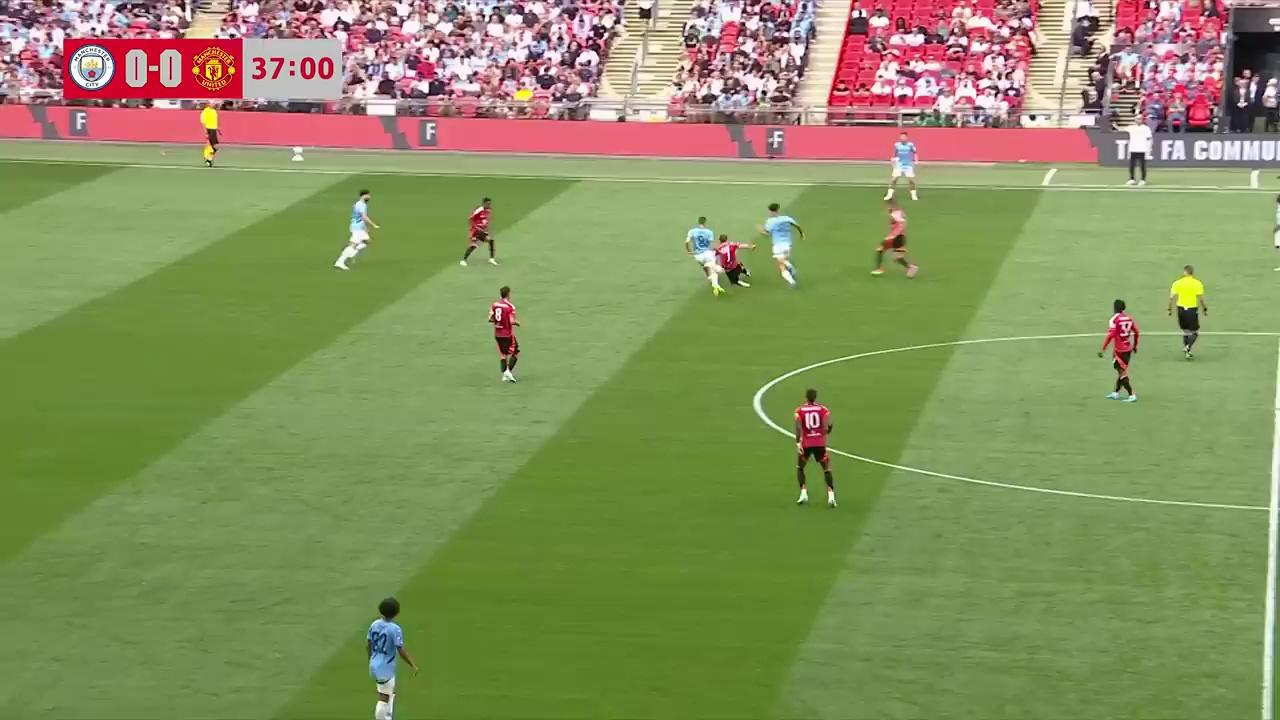player: (365, 597, 419, 720), (793, 386, 838, 508), (1098, 299, 1139, 402), (757, 203, 804, 288), (870, 198, 917, 277), (334, 189, 379, 269), (487, 286, 522, 383), (685, 216, 720, 295), (461, 196, 497, 267), (713, 234, 753, 292), (886, 135, 919, 196), (1271, 193, 1280, 255)
referee: (1168, 263, 1208, 360), (199, 103, 220, 168)
